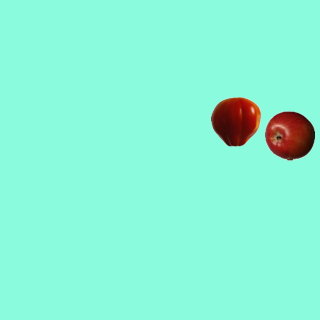Apple Braeburn: (264, 110, 314, 160)
Tomato 1: (210, 96, 260, 146)
